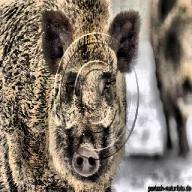boar: (0, 0, 141, 191), (146, 0, 192, 159)
